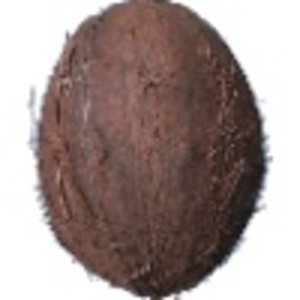coco: (29, 1, 271, 300)
